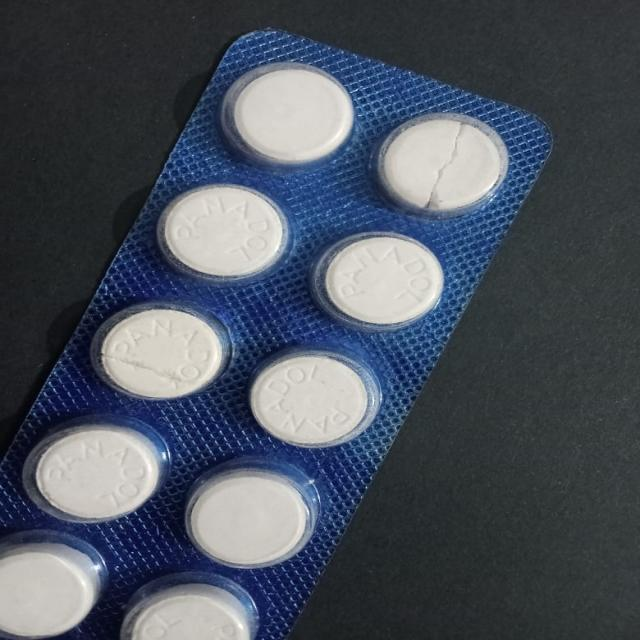defect: (370, 108, 513, 217), (88, 300, 233, 402)
